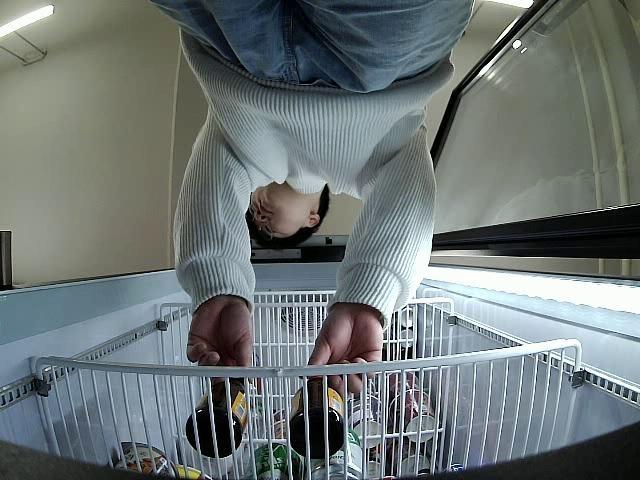17_vita500: (186, 378, 250, 458), (289, 376, 344, 460)
